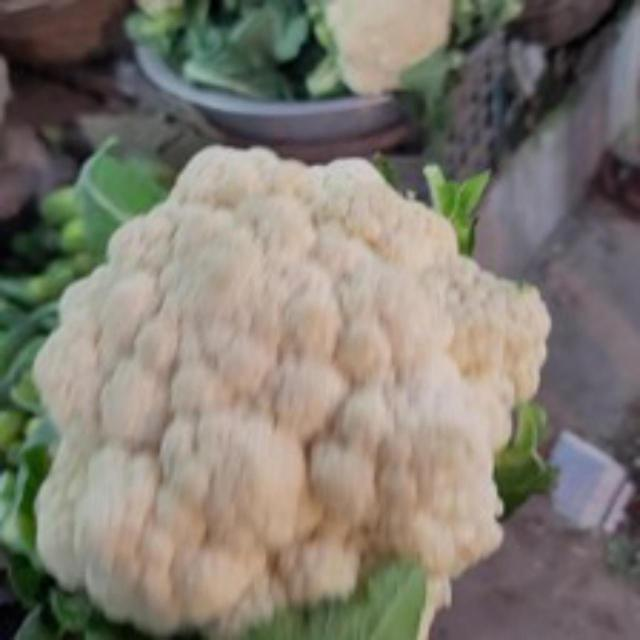cauliflower: (17, 138, 561, 630)
